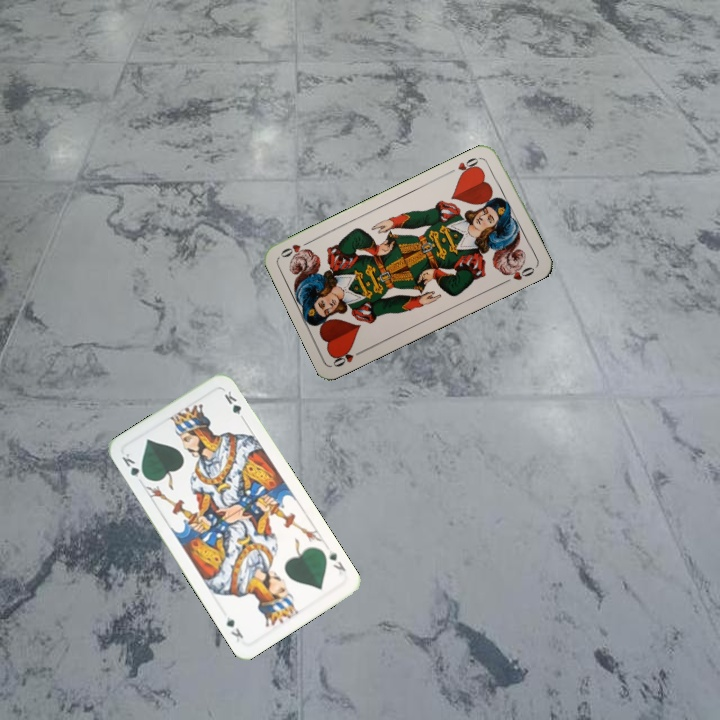GK: (118, 449, 149, 482), (324, 546, 348, 577)
HO: (446, 153, 484, 180), (329, 345, 368, 370)
